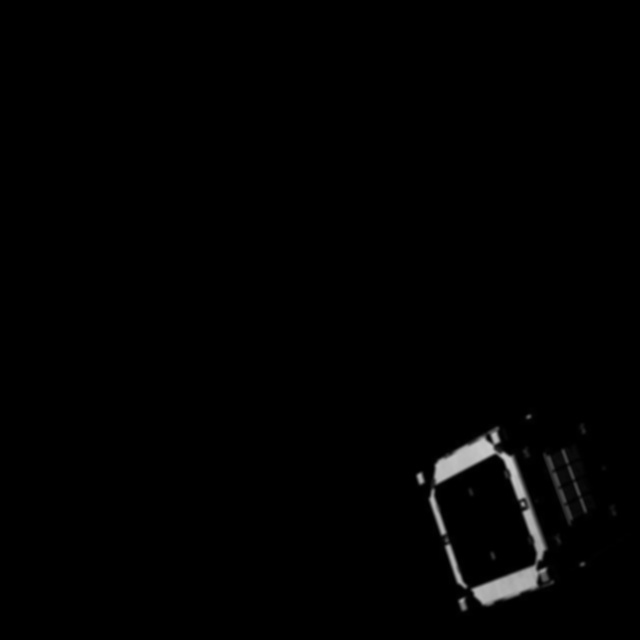satellite: (414, 388, 640, 614)
